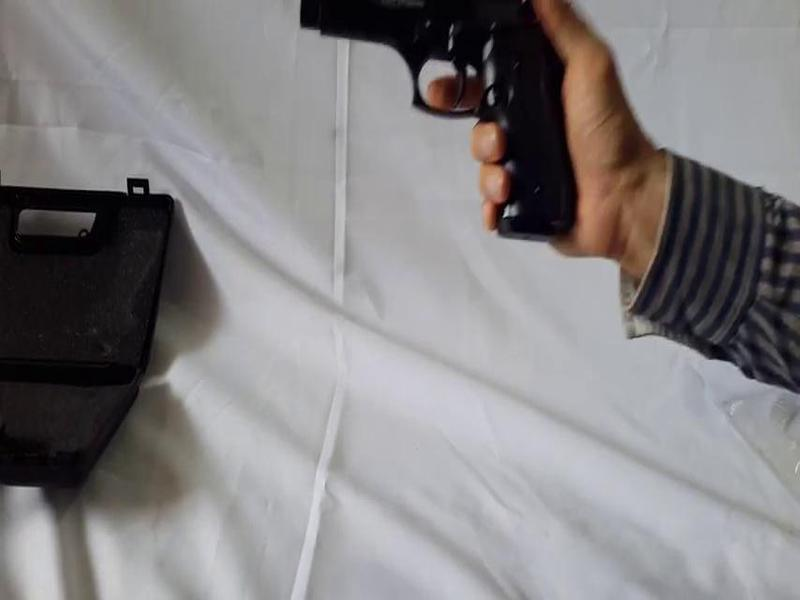Pistola: (253, 1, 605, 254)
